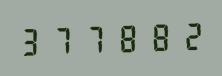eight: (142, 18, 172, 53), (111, 20, 141, 54)
seven: (48, 22, 78, 57), (80, 21, 110, 56)
three: (17, 23, 47, 58)
two: (173, 17, 203, 52)
